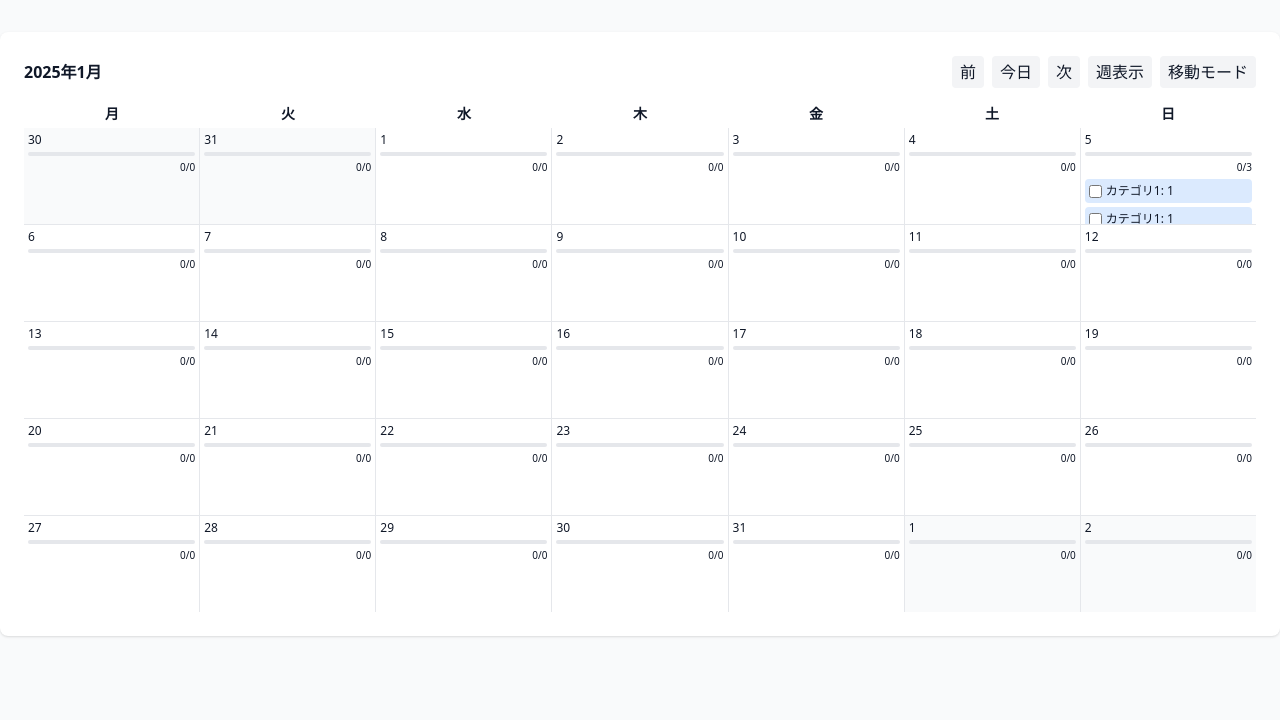
Test case: CalendarView › shows all blocks without scroll in weekly view
The width and height of the screenshot is (1280, 720).
Step 1. Click the button "週表示" → click(1120, 72), box [1088, 56, 1152, 88]
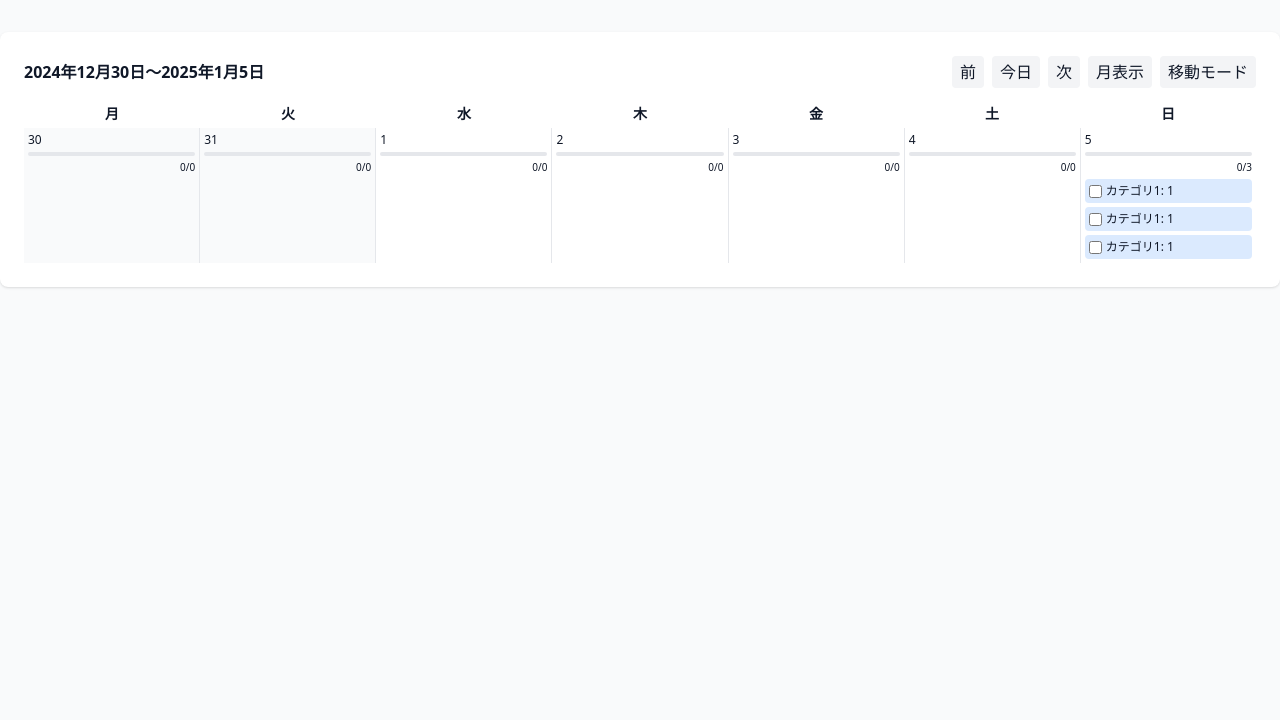
Expected: the number of elements with test id "task-block" is 3, [1085, 179, 1252, 203]; [1085, 207, 1252, 231]; [1085, 235, 1252, 259]
